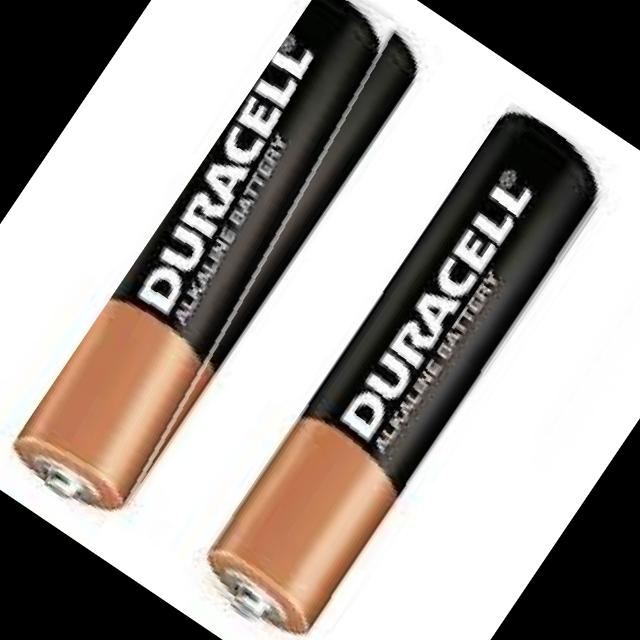Hazard: (187, 99, 622, 640), (2, 0, 437, 531)
